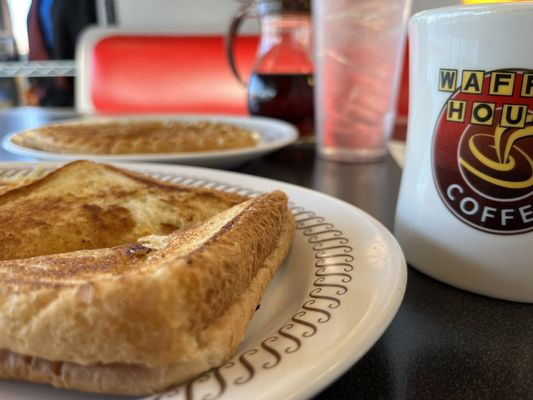pizza: (393, 3, 533, 304), (313, 0, 412, 166)
soup: (0, 160, 296, 396)
